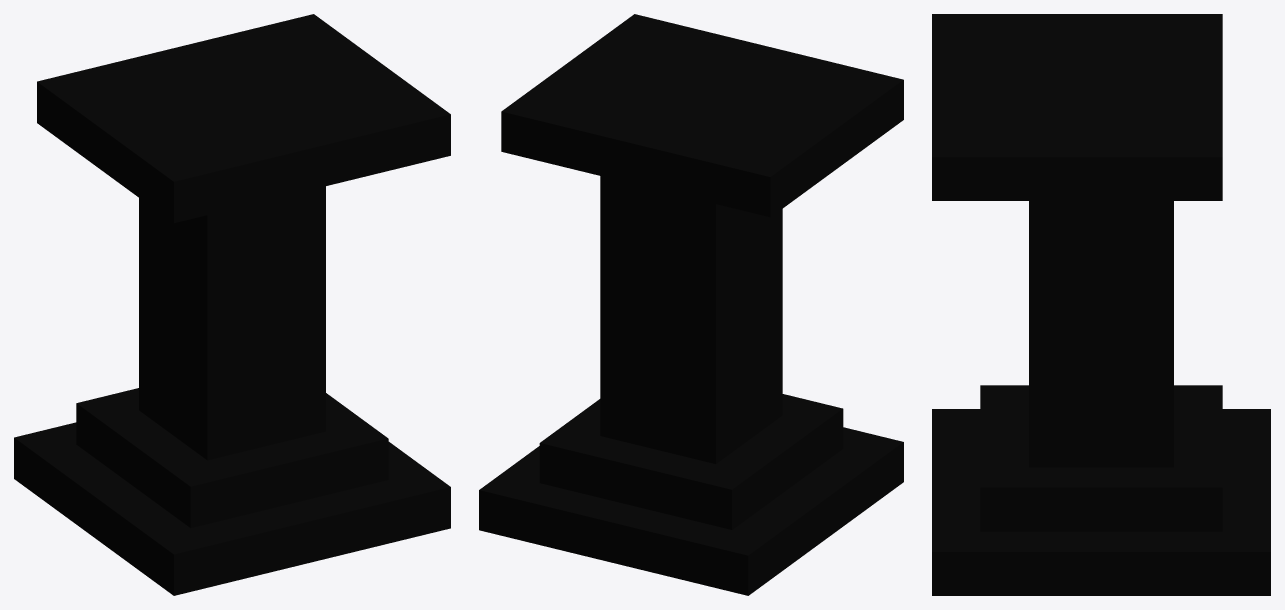
File: altar_d_b.obj
3 renders of one model, left to right at view 1: azimuth 30°, elevation 25°; view 2: azimuth 150°, elevation 25°; view 3: azimuth 270°, elevation 25°, orthographic. The views are drawn at different scales.
Bounding box in the file's own units: 0.7 × 1 × 0.7.
Materials: 1 (1 with a texture image).
